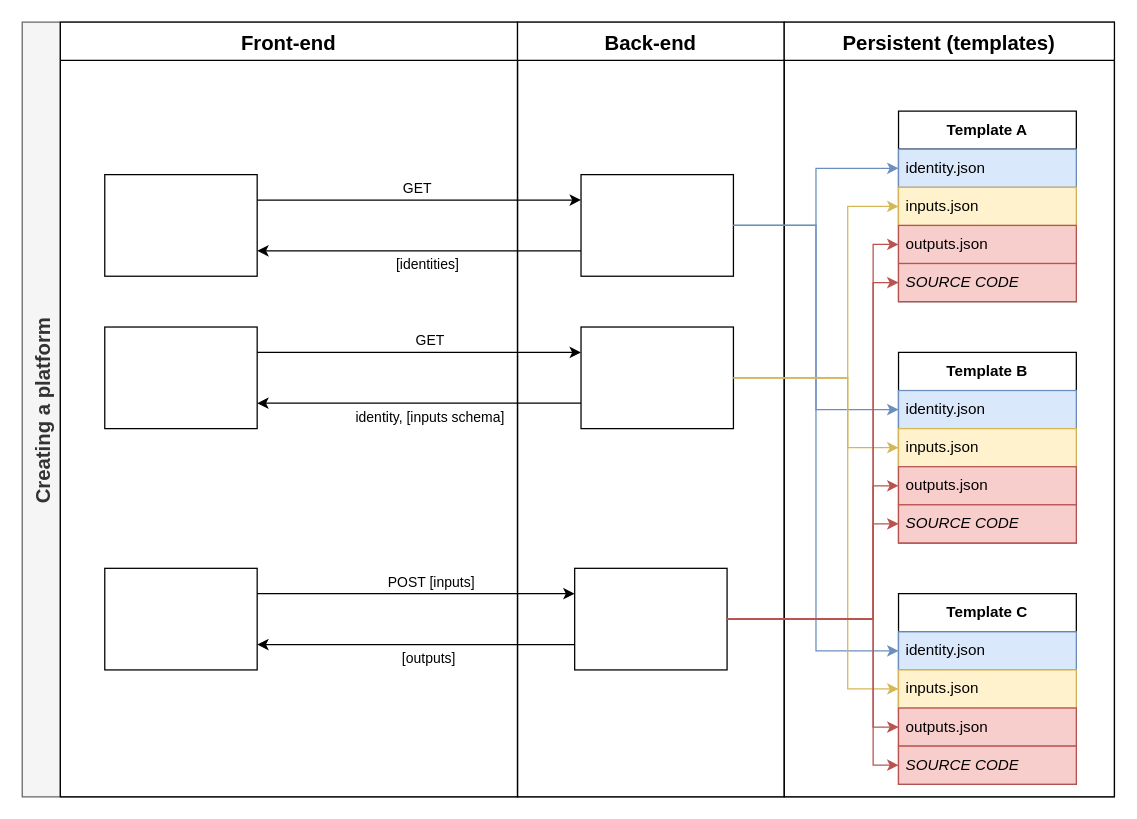
Some shapes in this 1137 by 819 pixel diagram are drawn without their labels. Here are the shapes that lost their labels. From the top down, the centre of each, then its label:
At point 180,224: "Dashboard page".
At point 656,224: "Fetch API /api/templates".
At point 180,377: "Create page".
At point 656,377: "Configure API /api/templates /{id}".
At point 180,618: "Review page".
At point 650,618: "Execute API /api/templates/ {id}".
